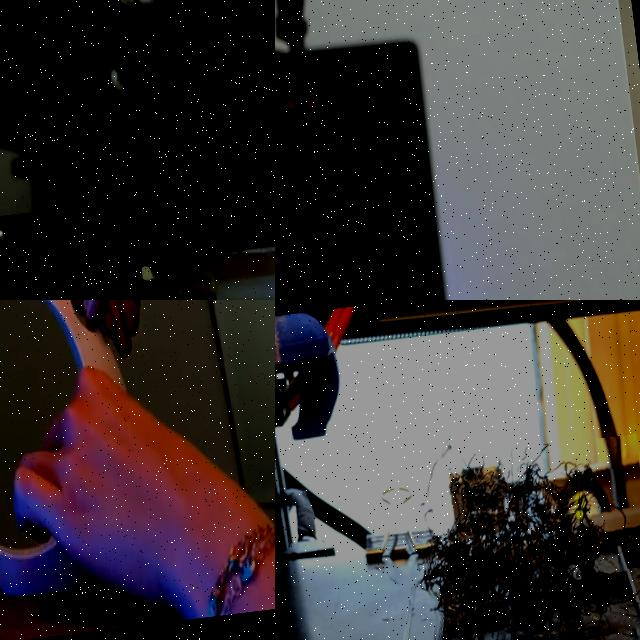spaghetti: (409, 433, 640, 640), (123, 259, 215, 300)
